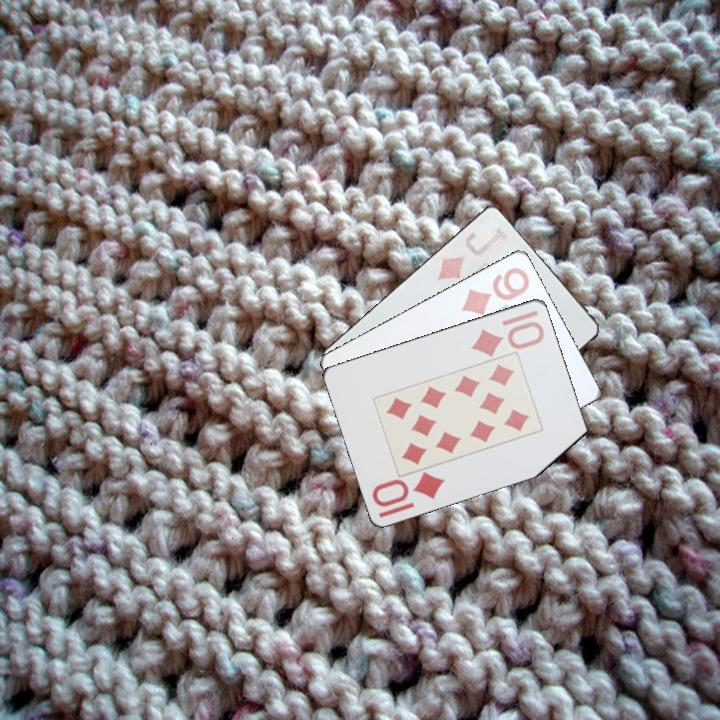9d: (458, 263, 533, 317)
Jd: (434, 219, 510, 283)
Td: (467, 306, 548, 358), (369, 468, 448, 520)
